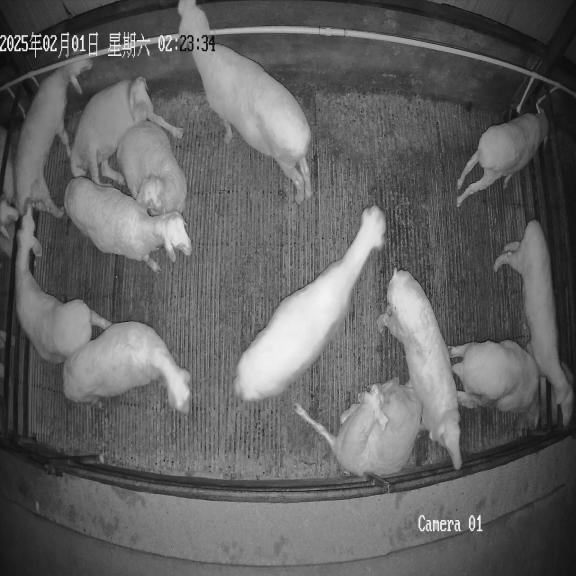lying: (295, 378, 422, 476), (70, 76, 183, 182), (116, 120, 187, 216)
stand: (234, 206, 386, 401), (178, 0, 312, 203), (379, 270, 461, 470), (494, 220, 573, 419), (15, 207, 111, 363), (7, 59, 91, 216), (65, 177, 191, 272), (62, 321, 190, 413), (457, 112, 549, 207), (450, 340, 541, 426)
